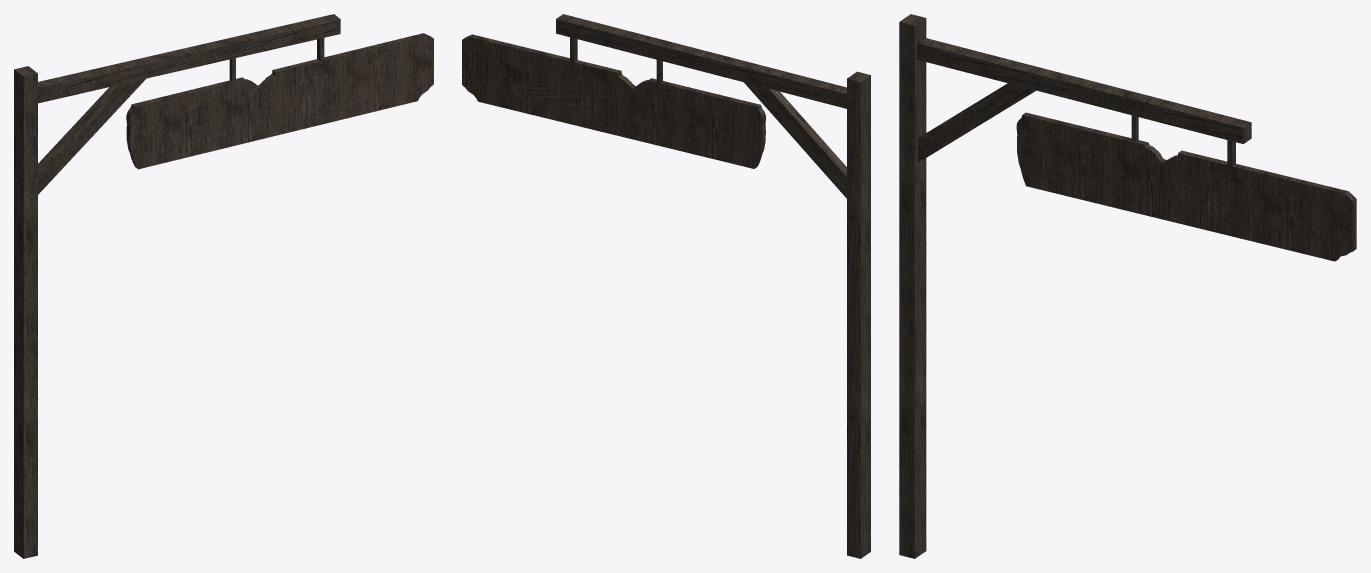
Rendered from Sign 4.fbx.
The picture shows the model from 3 angles, left to right: view 1: azimuth 30°, elevation 25°; view 2: azimuth 150°, elevation 25°; view 3: azimuth 330°, elevation 25°; orthographic projection. The views are drawn at different scales.
Visible parts, largest first — view 1: Model; view 2: Model; view 3: Model.
Part boxes in pixels (bbox=[...]): Model: bbox=[14, 14, 433, 558]; Model: bbox=[462, 14, 870, 558]; Model: bbox=[899, 14, 1356, 558].
Size of the model in its own units: 25.38 by 28.5 by 1.38.
